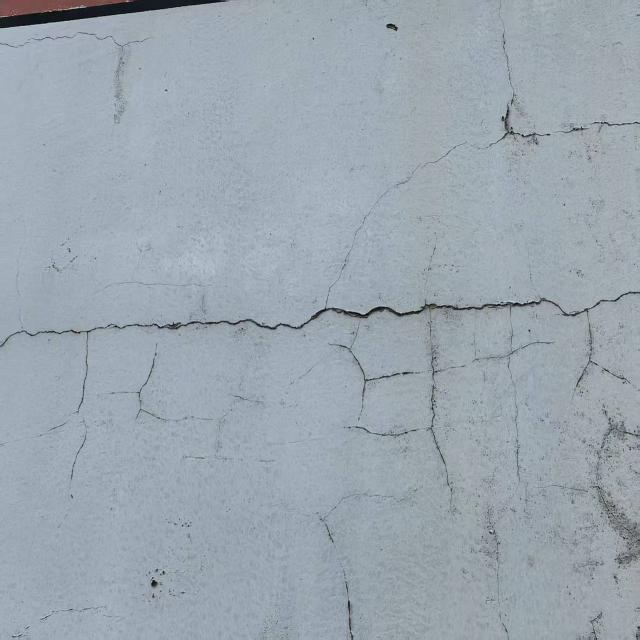crack: (1, 286, 637, 511), (318, 11, 637, 310), (98, 341, 220, 432), (0, 23, 158, 54)
